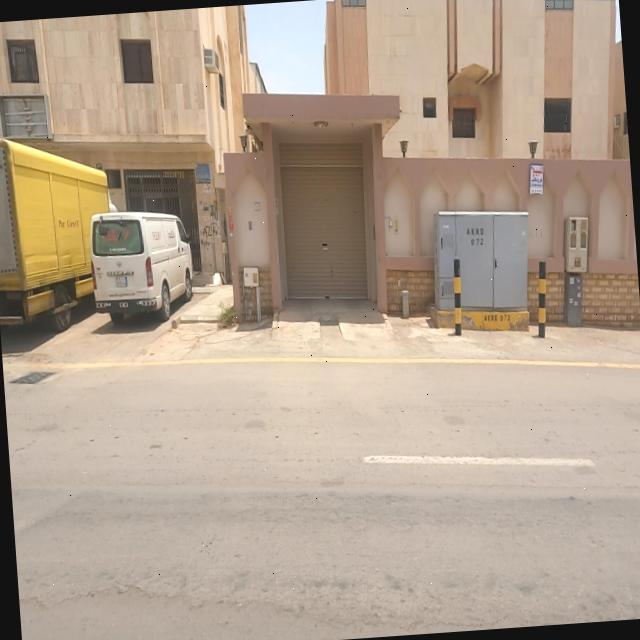Graffiti: (200, 224, 213, 251)
